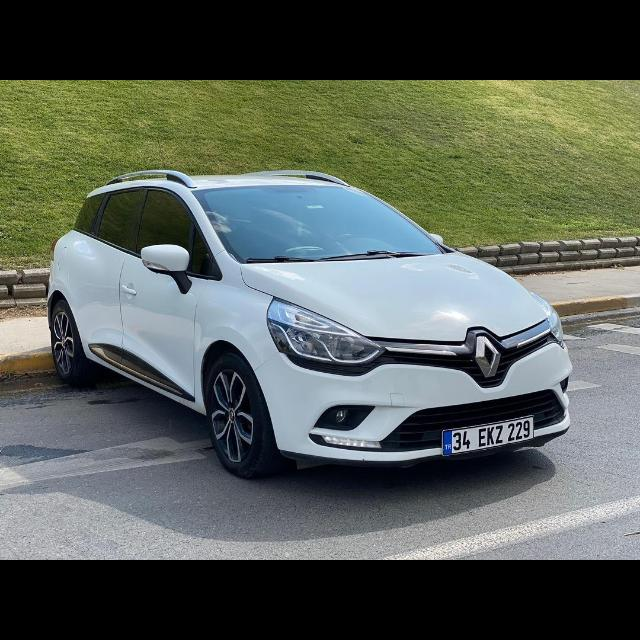Plaka: (444, 416, 534, 454)
